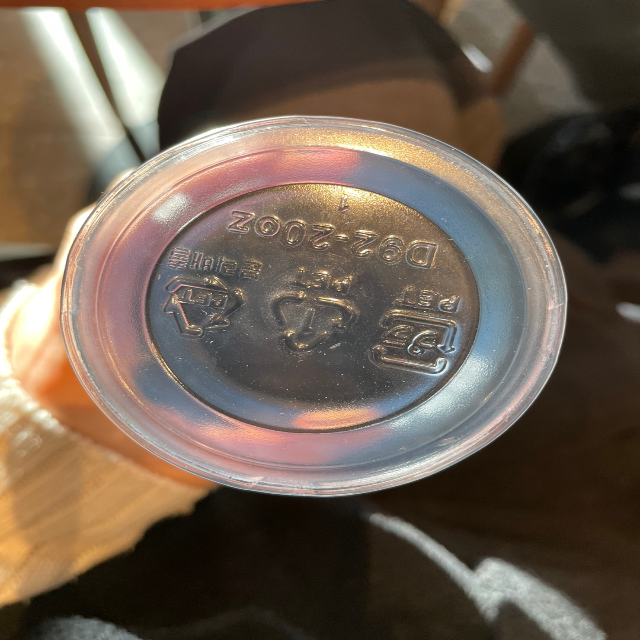pet: (157, 239, 264, 347), (265, 262, 364, 362), (367, 280, 467, 377)
